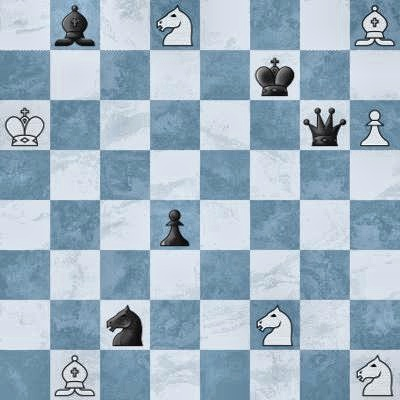black-bishop: (50, 0, 100, 50)
black-king: (250, 50, 300, 100)
black-knight: (100, 300, 150, 350)
black-pawn: (150, 200, 200, 250)
black-queen: (300, 100, 350, 150)
white-bishop: (350, 0, 400, 50), (50, 350, 100, 400)
white-king: (0, 100, 50, 150)
white-knight: (150, 0, 200, 50), (250, 300, 300, 350), (350, 350, 400, 400)
white-pawn: (350, 100, 400, 150)
